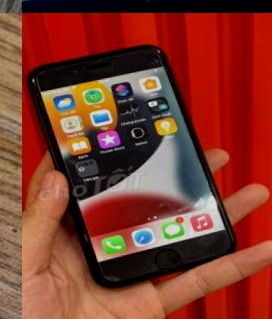scratch: (141, 42, 166, 66), (25, 70, 39, 93), (97, 272, 124, 282), (77, 226, 92, 244), (136, 0, 161, 6)
